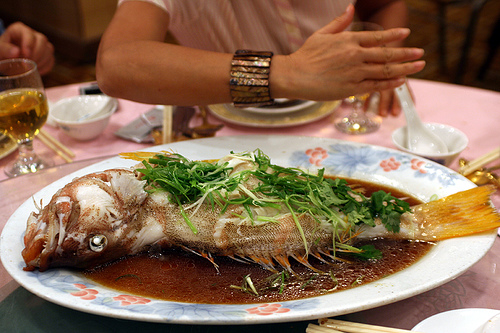fish: (21, 154, 499, 276)
